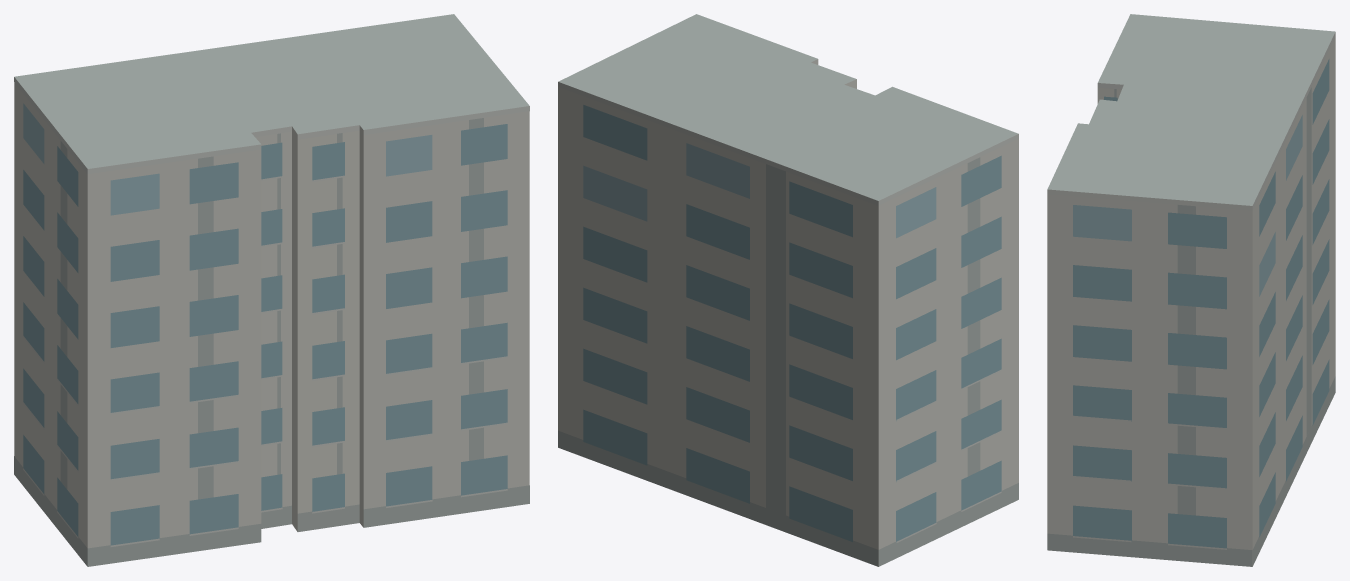
Rendered from survey-upis-32516481.glb.
3 renders of one model, left to right at view 1: azimuth 30°, elevation 25°; view 2: azimuth 150°, elevation 25°; view 3: azimuth 270°, elevation 25°, orthographic. The views are drawn at different scales.
Parts seen in each view (by area): view 1: survey-upis-32516481.tmp; view 2: survey-upis-32516481.tmp; view 3: survey-upis-32516481.tmp.
Boxes of the visible parts, x1,y1,x2,y2 form: survey-upis-32516481.tmp: (14,14,529,566); survey-upis-32516481.tmp: (558,14,1018,566); survey-upis-32516481.tmp: (1047,14,1335,566).
Size of the model in its own units: 20.89 by 18.3 by 13.26.
